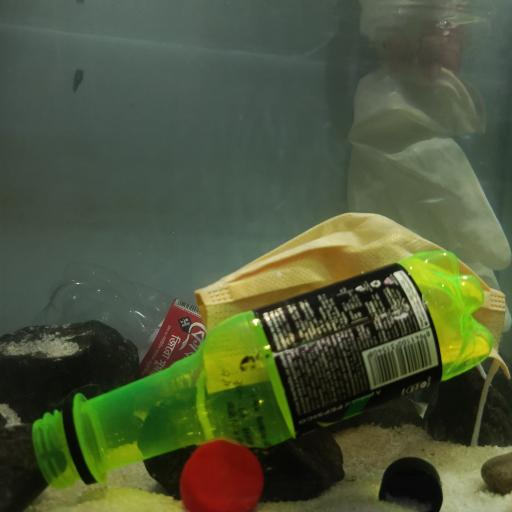bottle_cap: (182, 439, 263, 508), (381, 456, 444, 512)
glove: (344, 61, 512, 325)
mask: (191, 209, 512, 401)
plastic_bottle: (28, 249, 496, 487), (35, 260, 210, 380)
